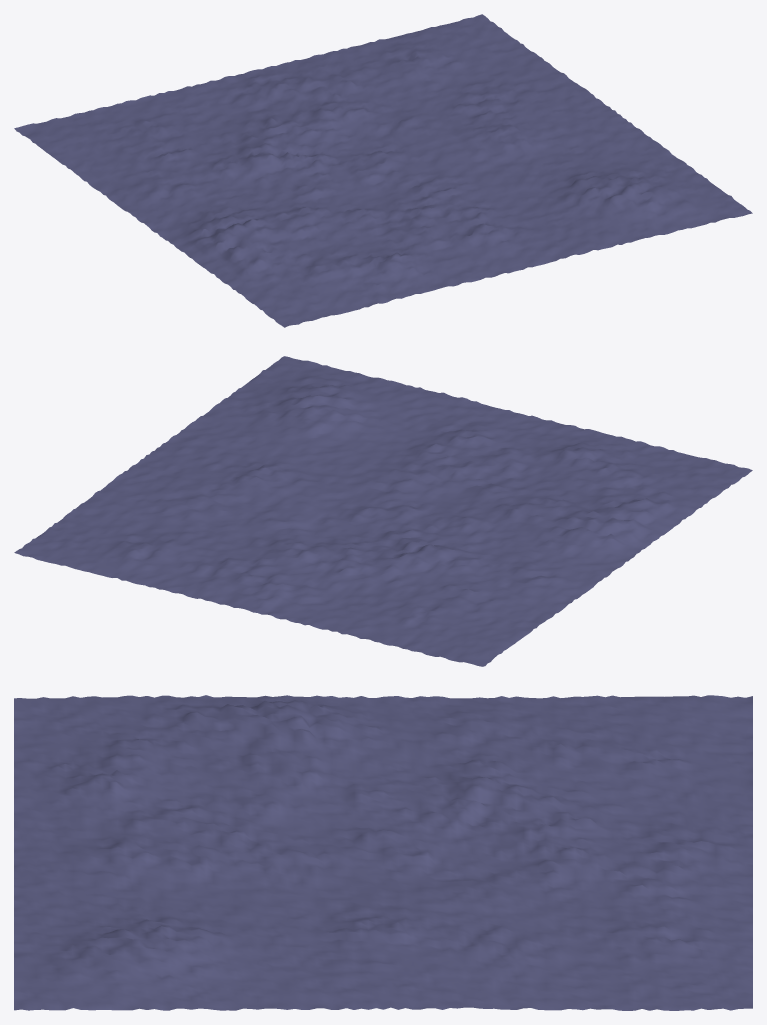
The model's file is Terrain_test1.fbx.
3 views of the same model, one above another, from view 1: azimuth 30°, elevation 25°; view 2: azimuth 150°, elevation 25°; view 3: azimuth 270°, elevation 25° (orthographic). The views are drawn at different scales.
Visible parts, largest first — view 1: pPlane1; view 2: pPlane1; view 3: pPlane1.
Boxes of the visible parts, <box> form: pPlane1: <box>14,14,752,327</box>; pPlane1: <box>14,356,752,666</box>; pPlane1: <box>14,695,752,1010</box>.
Bounding box in the file's own units: 100 × 2.8 × 100.
